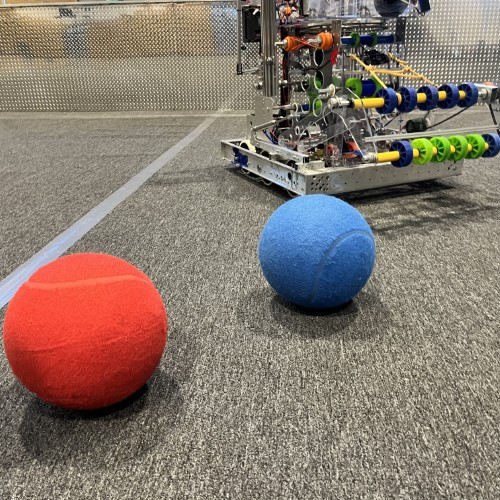blue: (256, 193, 377, 312)
red: (2, 251, 169, 412)
